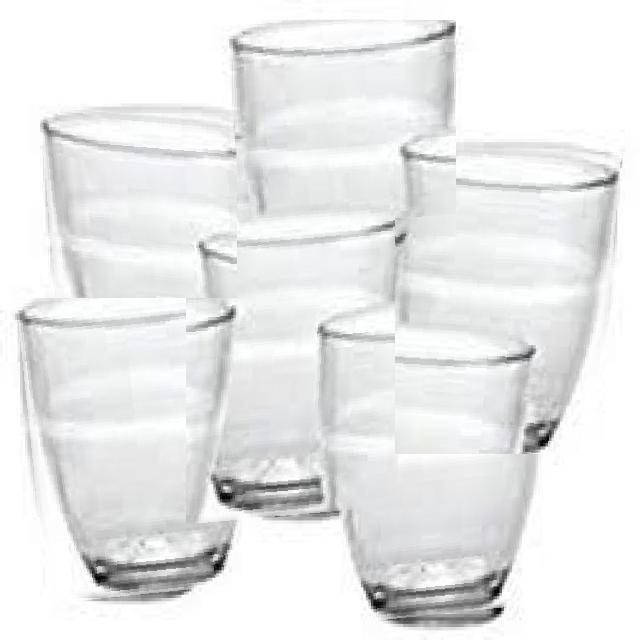Glass: (186, 216, 414, 526), (395, 143, 621, 454), (326, 318, 553, 626), (16, 298, 242, 604), (231, 21, 456, 230), (39, 106, 238, 298)
